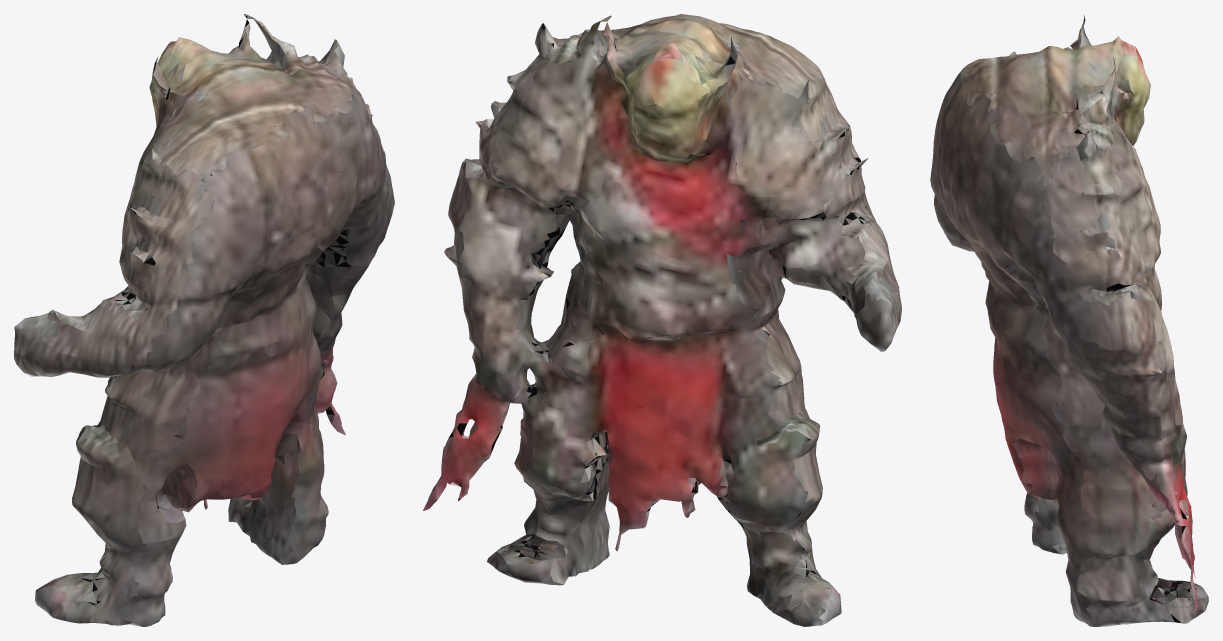
3 renders of one model, left to right at view 1: azimuth 30°, elevation 25°; view 2: azimuth 150°, elevation 25°; view 3: azimuth 270°, elevation 25°, orthographic. The views are drawn at different scales.
Visible parts, largest first — view 1: world; view 2: world; view 3: world.
Boxes of the visible parts, x1,y1,x2,y2 form: world: [14, 14, 394, 626]; world: [423, 14, 901, 626]; world: [930, 15, 1208, 626].
Size of the model in its own units: 0.6882 by 0.9032 by 0.4126.
1 material, 1 textured.
